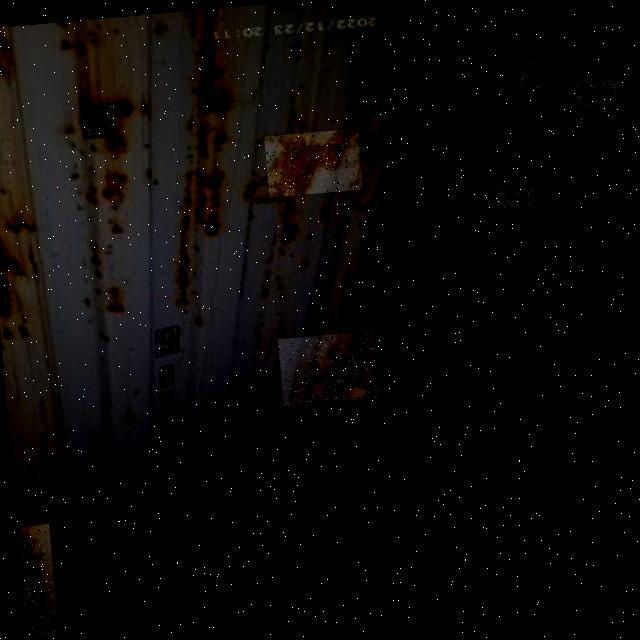rust: (278, 332, 380, 407), (264, 129, 363, 198), (18, 524, 60, 640), (577, 82, 625, 123), (511, 44, 540, 92), (82, 103, 119, 140), (499, 188, 535, 215)
